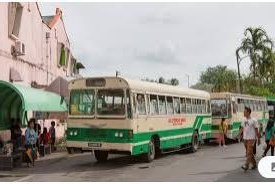bus: (64, 74, 209, 163), (210, 92, 271, 144)
